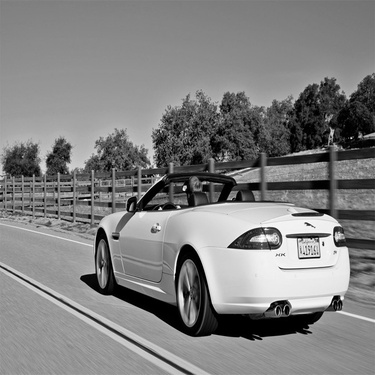car: (96, 163, 353, 342)
